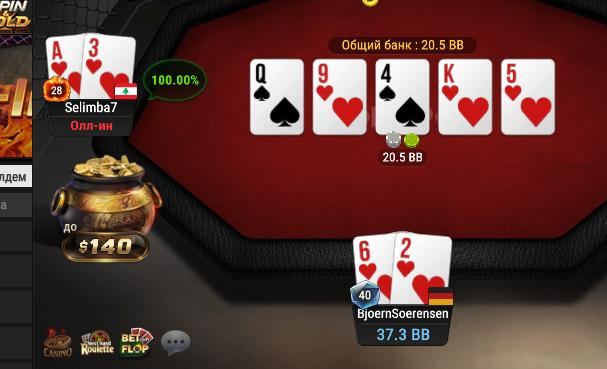2h: (392, 230, 450, 304)
3h: (83, 32, 136, 100)
4s: (376, 59, 428, 134)
5h: (502, 60, 554, 134)
6h: (352, 232, 393, 304)
9h: (314, 60, 366, 134)
Ah: (46, 35, 82, 98)
Kh: (439, 60, 492, 134)
Qs: (251, 60, 304, 134)
